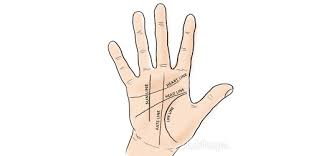palm: (131, 70, 191, 146)
